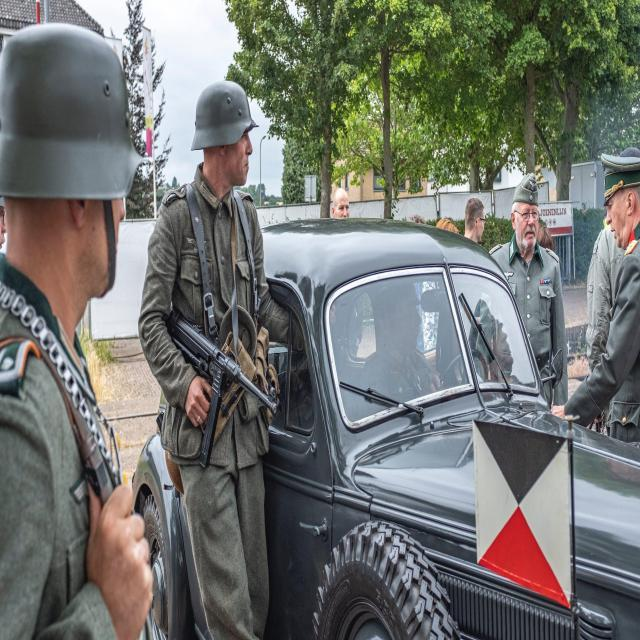weapon: (166, 307, 278, 471)
